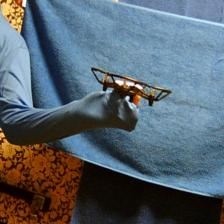drone: (90, 67, 175, 106)
